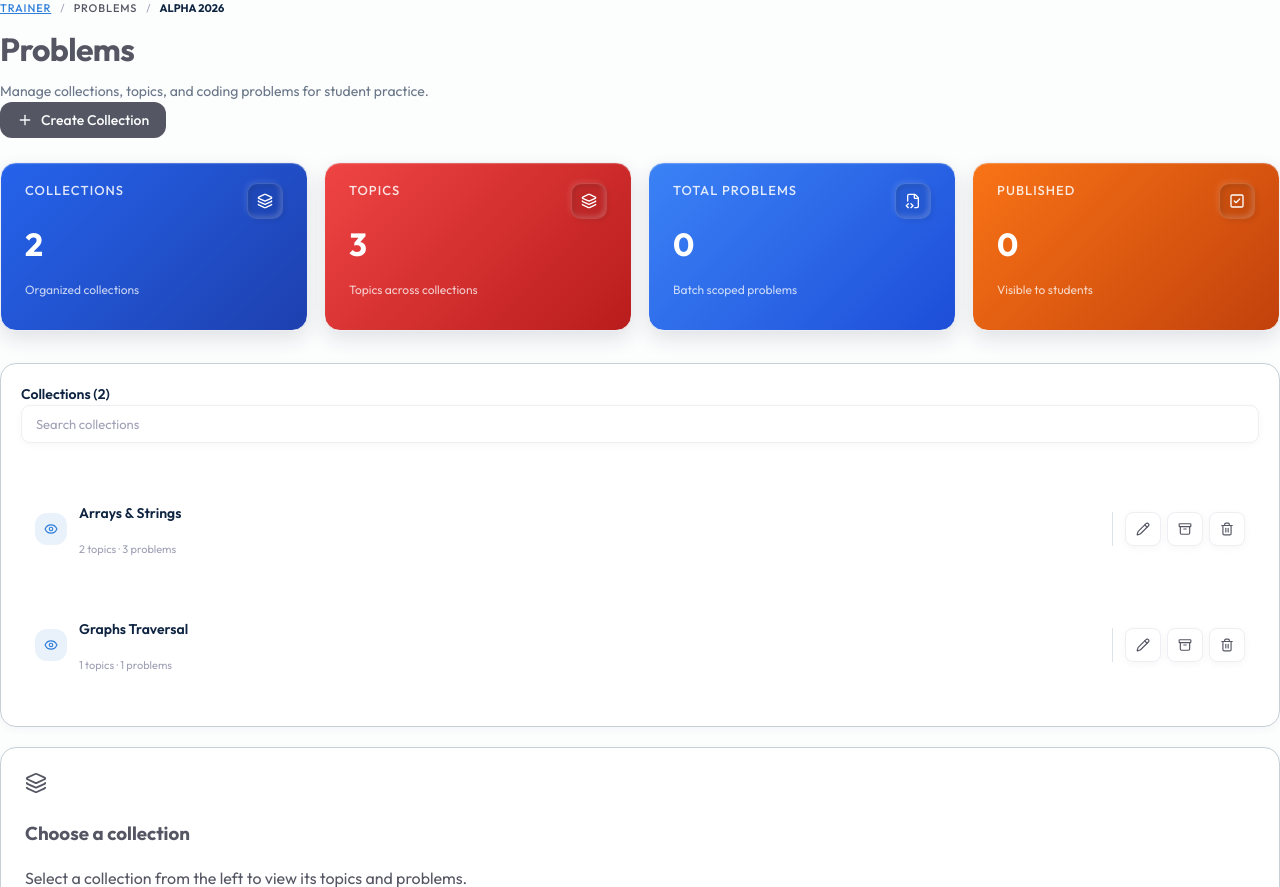
Scenario: deleting a collection reports when it was archived instead of removed
The image size is (1280, 887).
Click the heading "Arrays & Strings".
click(130, 514)  # box [79,504,181,522]
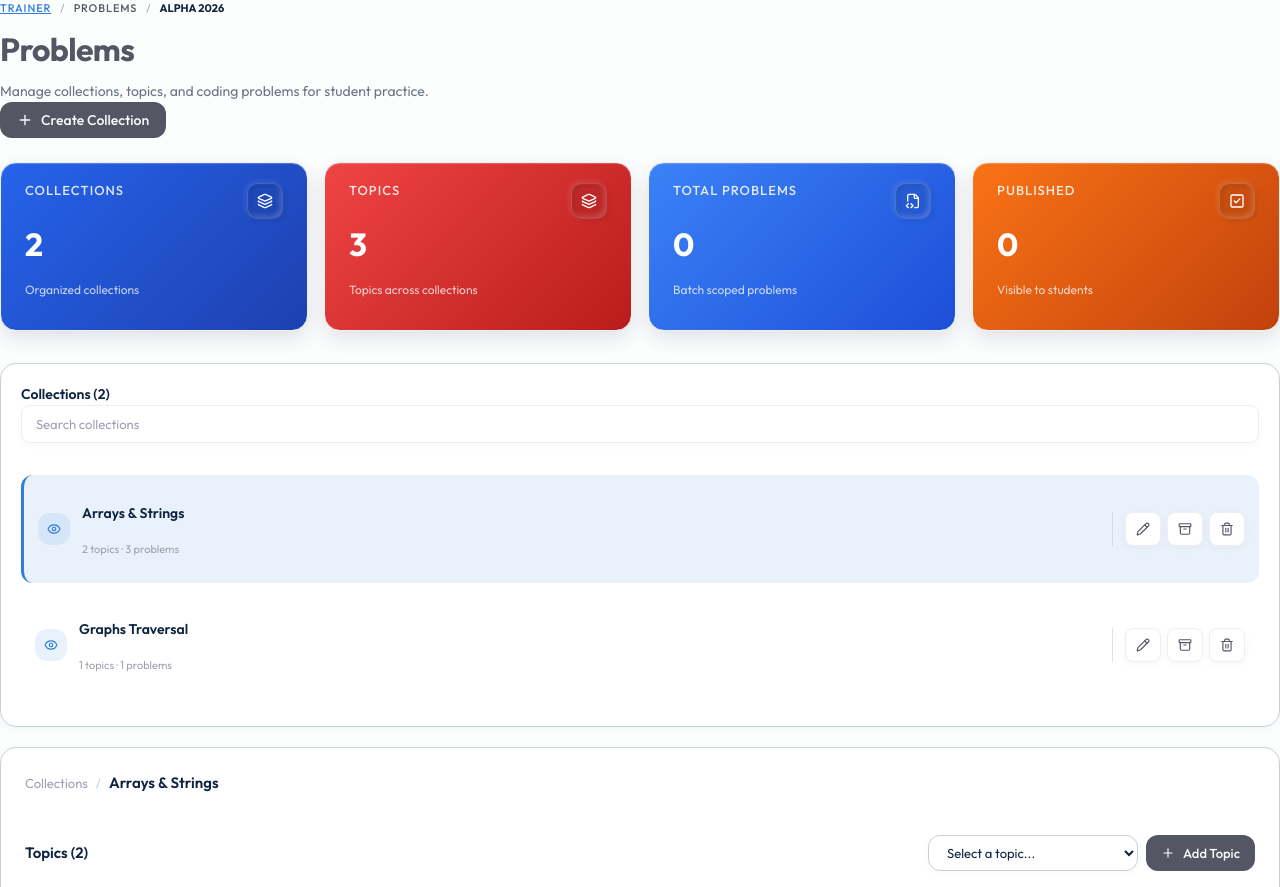
Check: the element with class "admin-problems__topics-header" is shown, box [25,835,1255,871]
Click the button named "Delete".
click(1227, 529)  # box [1209,512,1245,546]
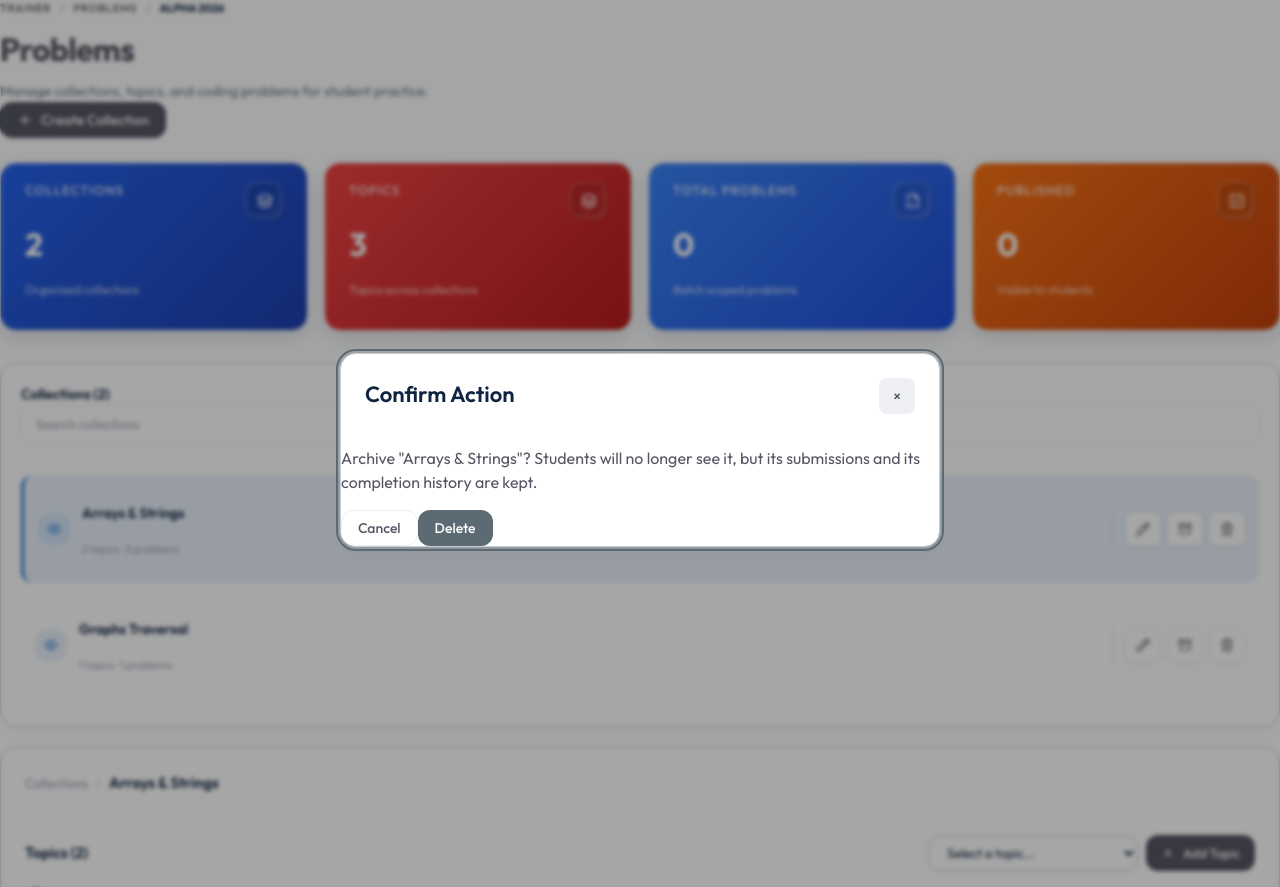
Click the button "Delete".
click(455, 528)  # box [418,510,493,546]
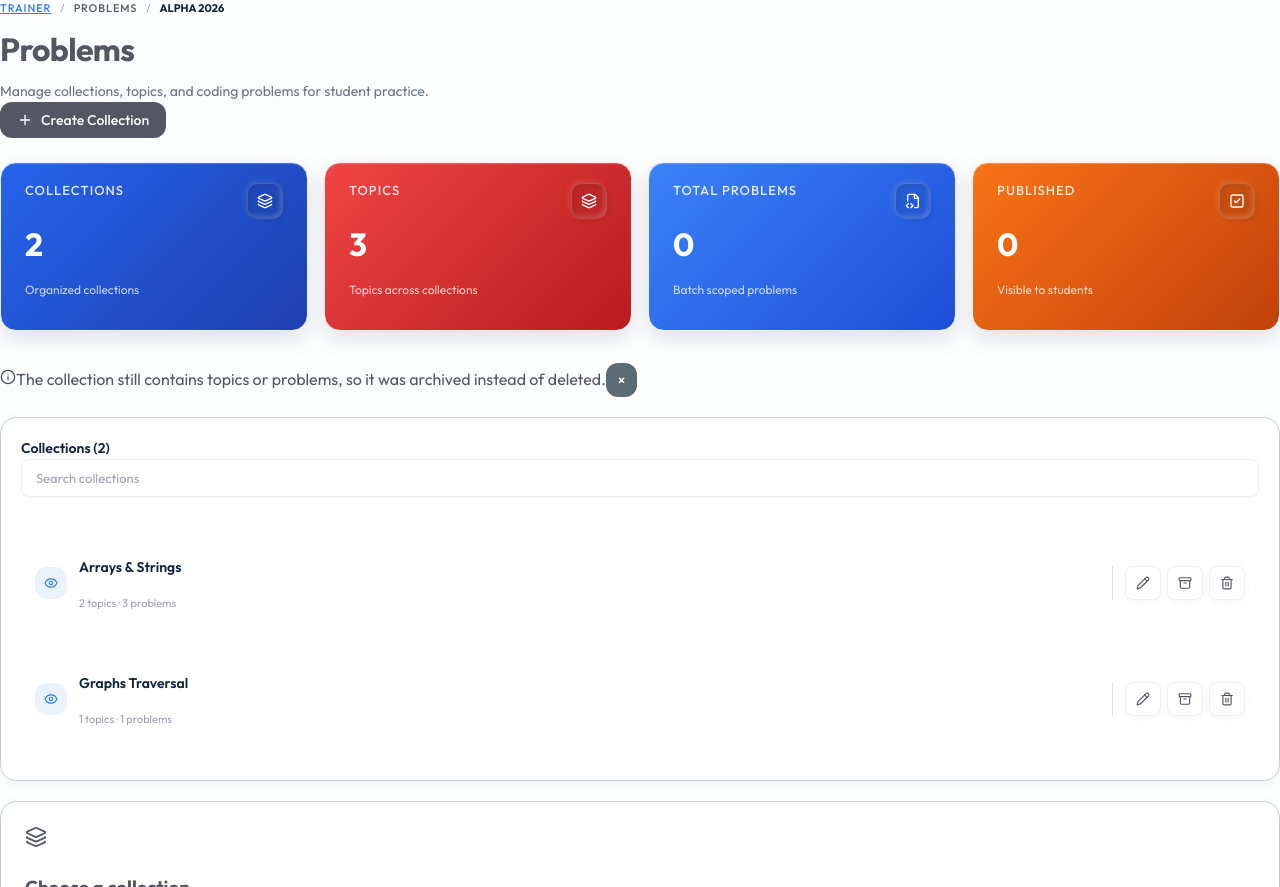
Check: the text "archived instead" is shown, box [16,370,606,390]
